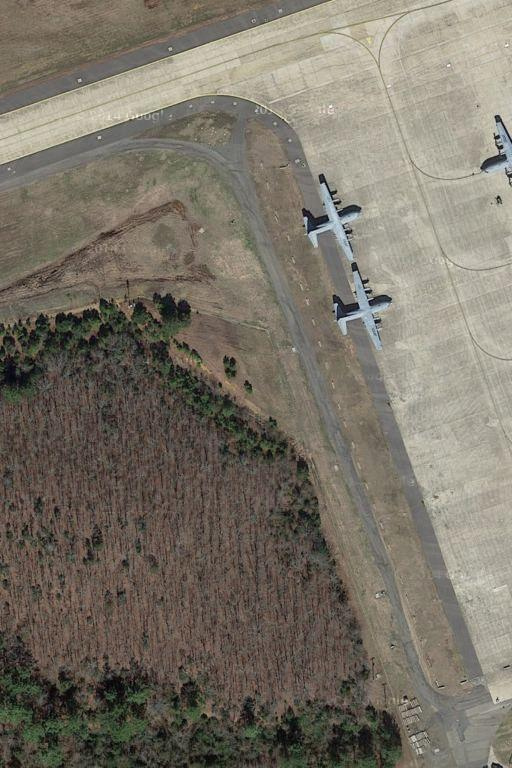C-130: (301, 181, 363, 268), (333, 269, 392, 350)
